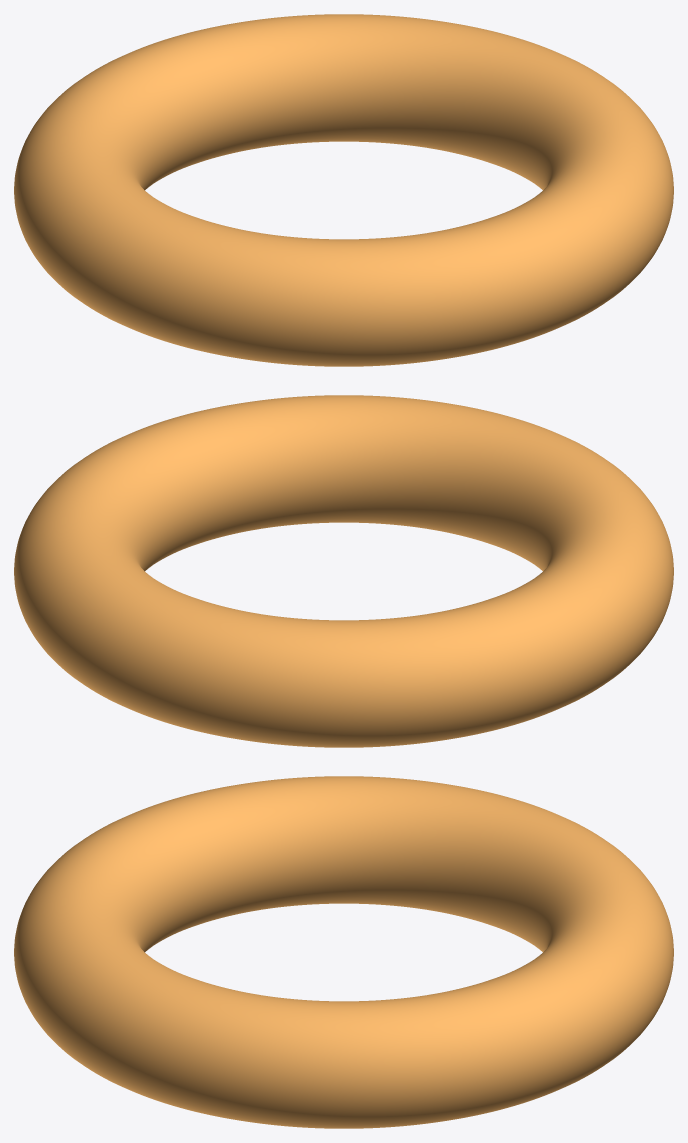
3 renders of one model, top to bottom at view 1: azimuth 30°, elevation 25°; view 2: azimuth 150°, elevation 25°; view 3: azimuth 270°, elevation 25°, orthographic.
Parts seen in each view (by area): view 1: Torus; view 2: Torus; view 3: Torus.
Boxes of the visible parts, x1=… form: Torus: x1=14, y1=14, x2=673, y2=366; Torus: x1=14, y1=395, x2=673, y2=747; Torus: x1=14, y1=776, x2=673, y2=1128.
Bounding box in the file's own units: 2.47 × 0.4777 × 2.47.
1 material, 1 textured.
